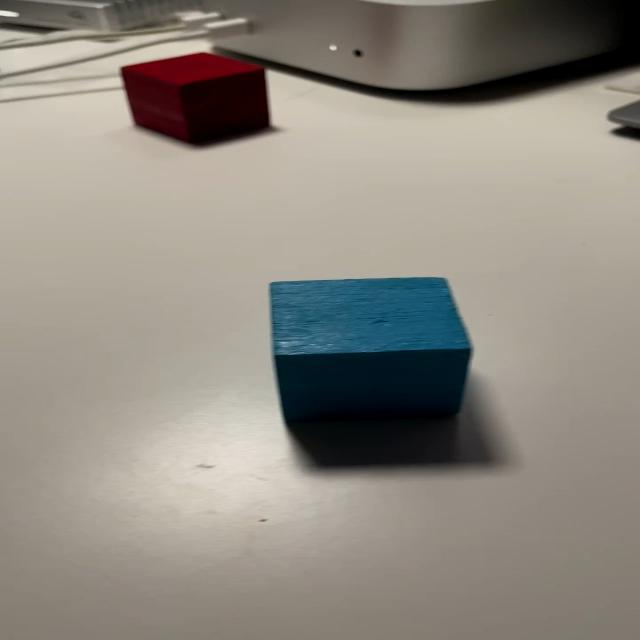blue_block: (263, 277, 478, 431)
red_block: (119, 53, 281, 146)
